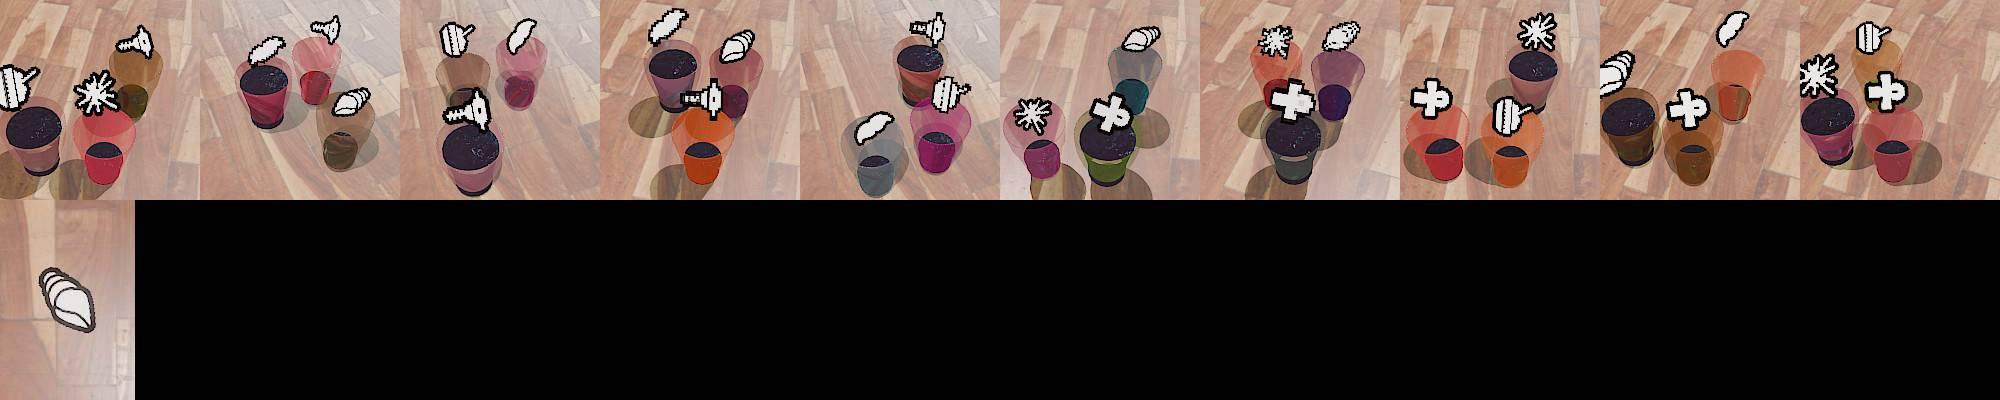icon: (38, 266, 97, 335), (71, 68, 122, 117), (443, 85, 490, 131), (1797, 52, 1842, 99), (1491, 94, 1540, 136), (680, 76, 724, 121), (1864, 70, 1909, 113), (1269, 79, 1318, 120), (1515, 11, 1559, 56), (1665, 87, 1710, 129), (1087, 92, 1131, 134), (1409, 76, 1454, 118), (0, 62, 41, 108), (1598, 50, 1635, 98), (930, 73, 969, 113), (648, 8, 689, 47), (1013, 96, 1054, 135), (439, 20, 477, 59), (908, 11, 948, 48), (853, 111, 895, 145), (717, 28, 756, 64), (115, 24, 154, 59), (1321, 19, 1362, 52), (246, 33, 287, 66), (329, 85, 371, 117), (1716, 10, 1750, 48), (1258, 23, 1293, 59), (505, 18, 538, 55), (1856, 20, 1890, 55), (1121, 25, 1161, 52), (309, 15, 341, 46)
